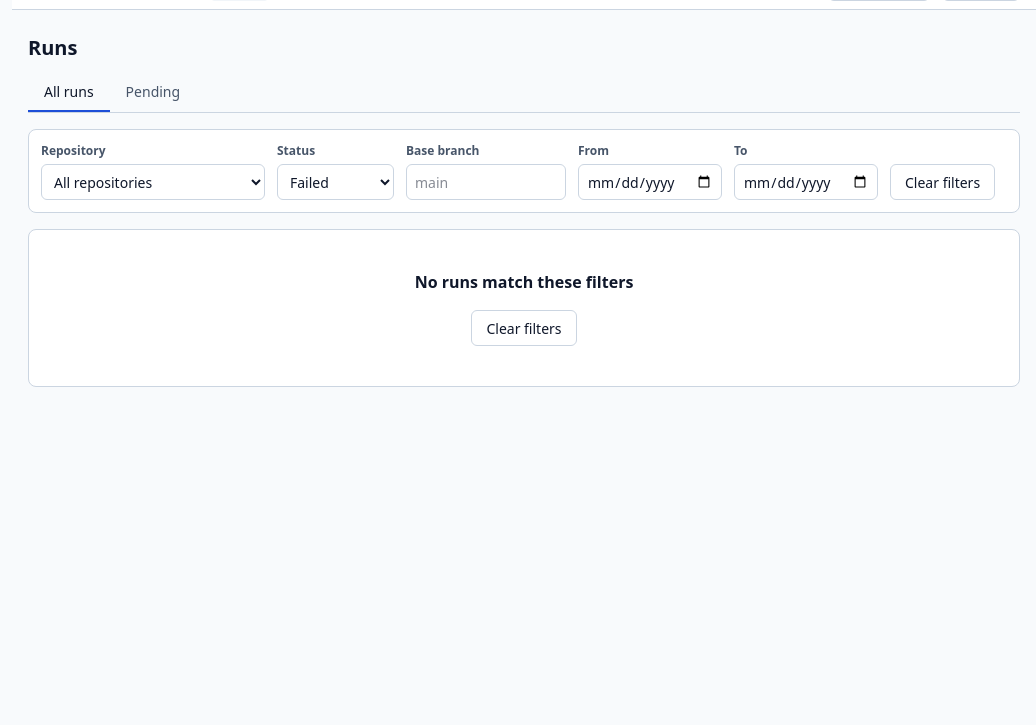
Test: Runs page › says when filters match nothing, and clears them
Expected: the heading "No runs match these filters" is shown, [415, 270, 633, 294]
Click the 1st button "Clear filters".
click(943, 182)  # box [890, 164, 995, 200]
(page scrolled)
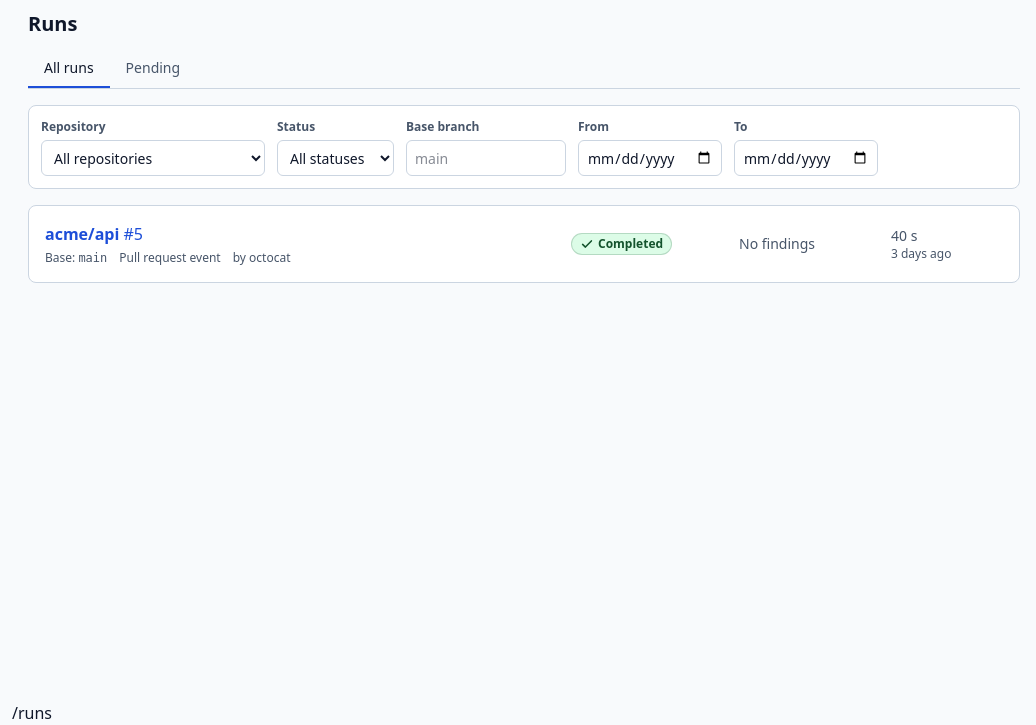
Result: the link "acme/api #5" is shown at [45, 223, 143, 245]
Result: the text with test id "location" reads "/runs" at [12, 702, 52, 724]
